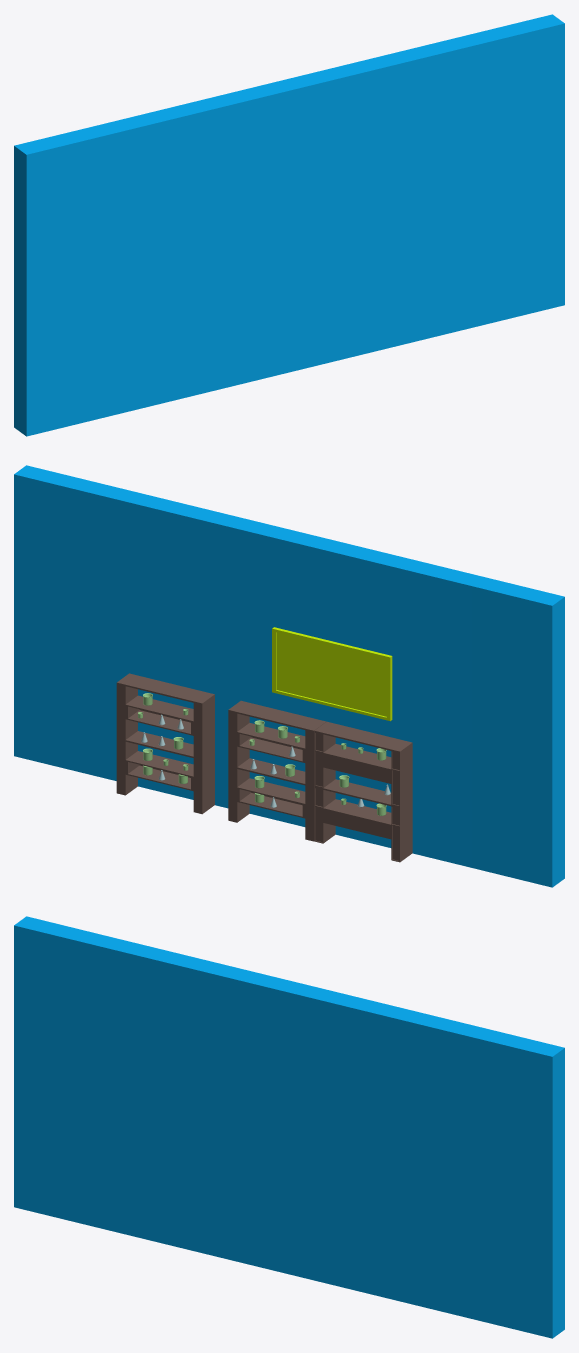
File: BigRoomWallVariation1.fbx
3 views of the same model, one above another, from view 1: azimuth 30°, elevation 25°; view 2: azimuth 150°, elevation 25°; view 3: azimuth 330°, elevation 25° (orthographic).
Visible parts, largest first — view 1: Wall; view 2: Wall, Billboard, Cube.078, Cube.081, Cube.079, Cube.080, Cube.077, Cube.076; view 3: Wall.
Part boxes in pixels (x1,y1,x2,y2): Wall: (14,14,564,436); Wall: (14,465,564,887); Billboard: (272,627,392,721); Cube.078: (314,721,412,806); Cube.081: (116,673,214,758); Cube.079: (314,779,412,862); Cube.080: (116,731,214,814); Cube.077: (228,700,326,785); Cube.076: (228,758,314,841); Wall: (14,916,564,1338).
Bounding box in the file's own units: 100 × 50 × 8.04.
